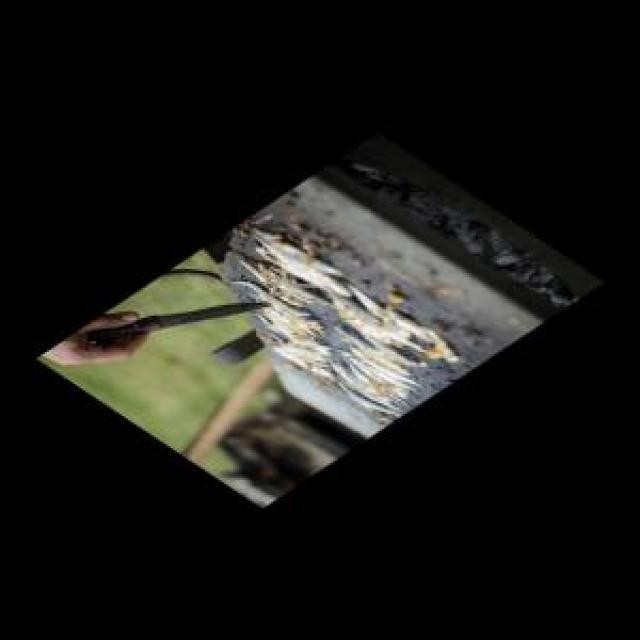knife: (87, 294, 272, 347)
